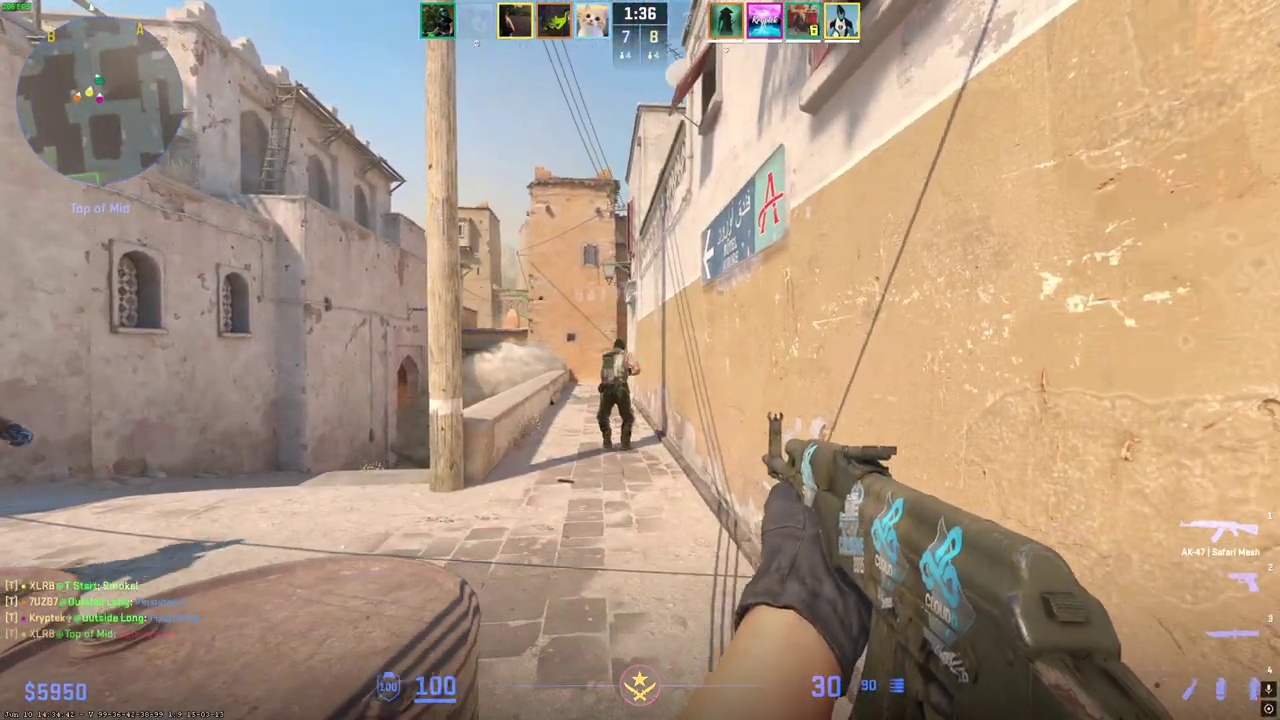Terrorist: (596, 337, 641, 451)
